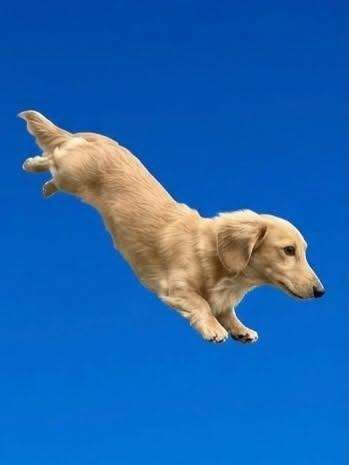puppy-dog: (14, 107, 327, 348)
